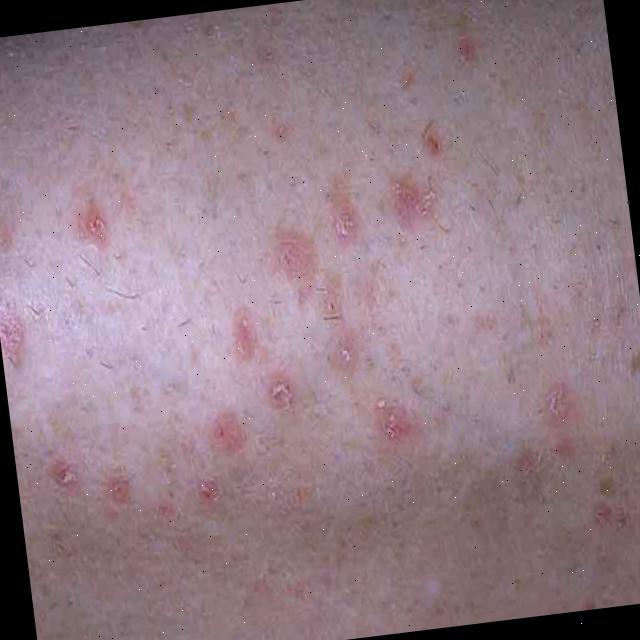kene: (57, 191, 145, 260), (323, 174, 377, 257), (174, 470, 231, 532), (94, 461, 144, 519), (414, 117, 458, 181)
